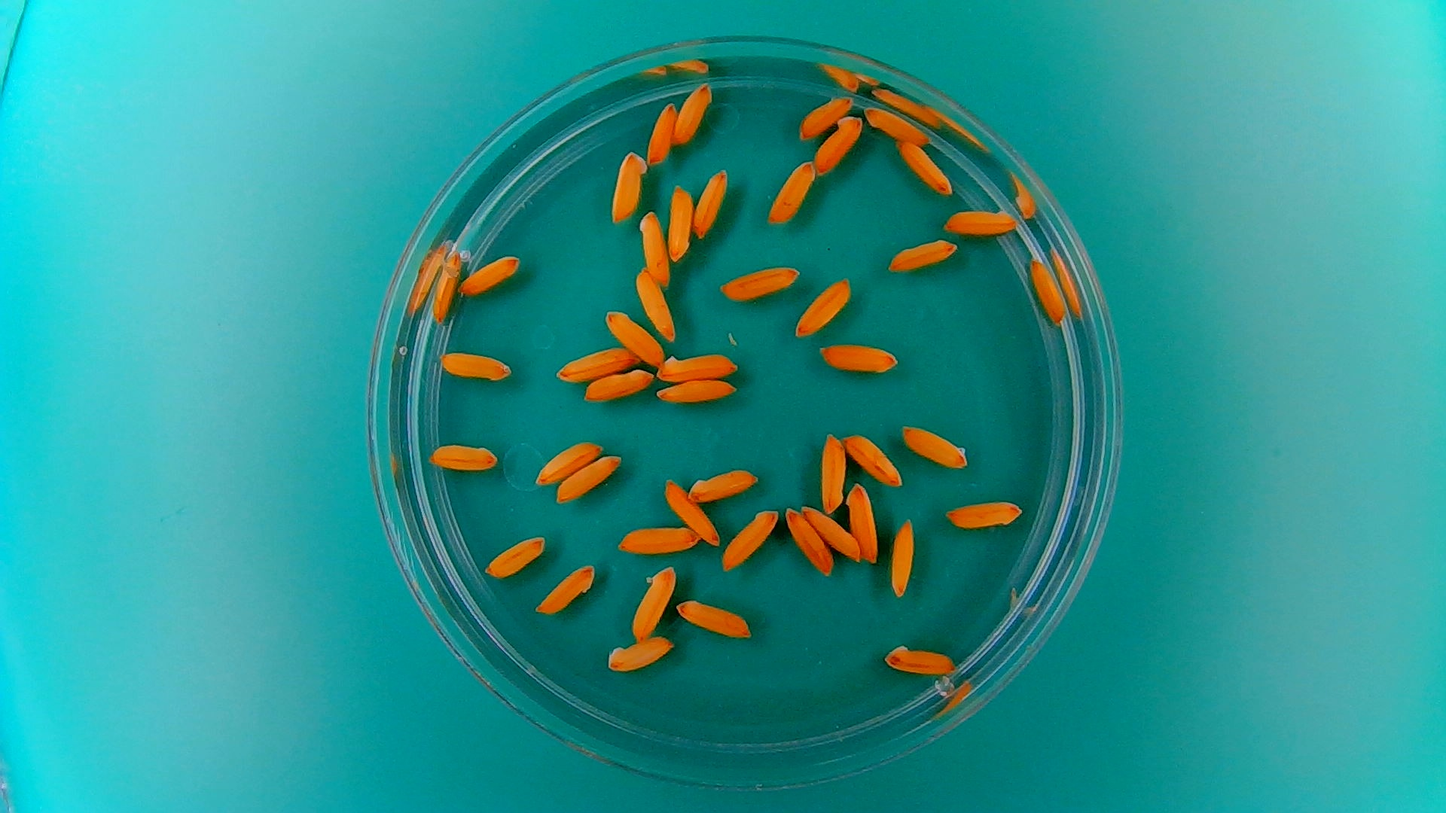no: (661, 475, 721, 548), (627, 562, 677, 644), (792, 276, 854, 340), (720, 506, 779, 573), (783, 504, 834, 577), (801, 503, 863, 562), (555, 451, 624, 504), (532, 560, 597, 616), (633, 266, 679, 345), (603, 307, 664, 365), (843, 431, 905, 488), (532, 437, 604, 486), (899, 420, 969, 470), (894, 139, 955, 196), (765, 158, 816, 226), (674, 596, 753, 639), (552, 343, 638, 382), (718, 263, 801, 303), (813, 113, 865, 176), (482, 531, 548, 580), (608, 147, 648, 225), (816, 340, 900, 376), (670, 79, 714, 147), (845, 480, 880, 565), (683, 467, 761, 505), (654, 348, 740, 382), (636, 207, 672, 288), (1028, 254, 1069, 325), (862, 104, 931, 146), (615, 522, 699, 556), (881, 640, 958, 677), (459, 251, 522, 296), (604, 635, 676, 674), (944, 497, 1026, 531), (797, 93, 856, 140), (691, 166, 729, 238), (582, 366, 655, 403), (886, 237, 961, 273), (439, 348, 514, 383), (818, 428, 848, 515), (941, 203, 1020, 236), (429, 250, 463, 325), (425, 439, 500, 472), (654, 376, 738, 405), (887, 514, 916, 598), (644, 97, 678, 166), (667, 181, 694, 263)
